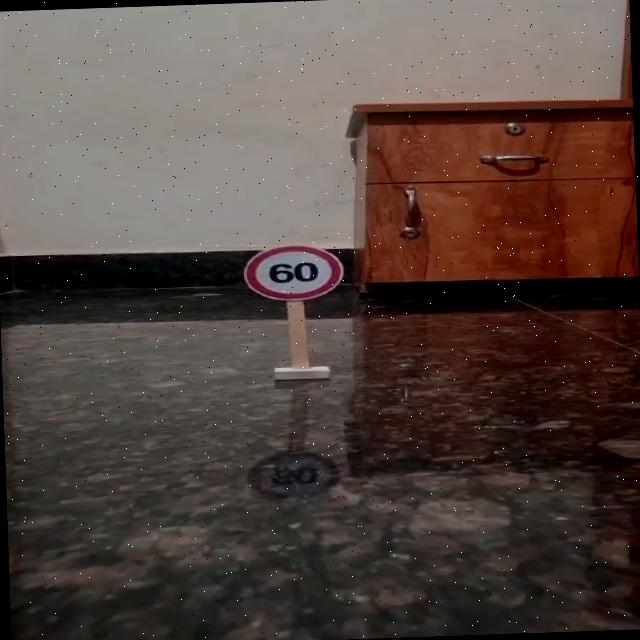Speed60: (223, 234, 353, 314)
